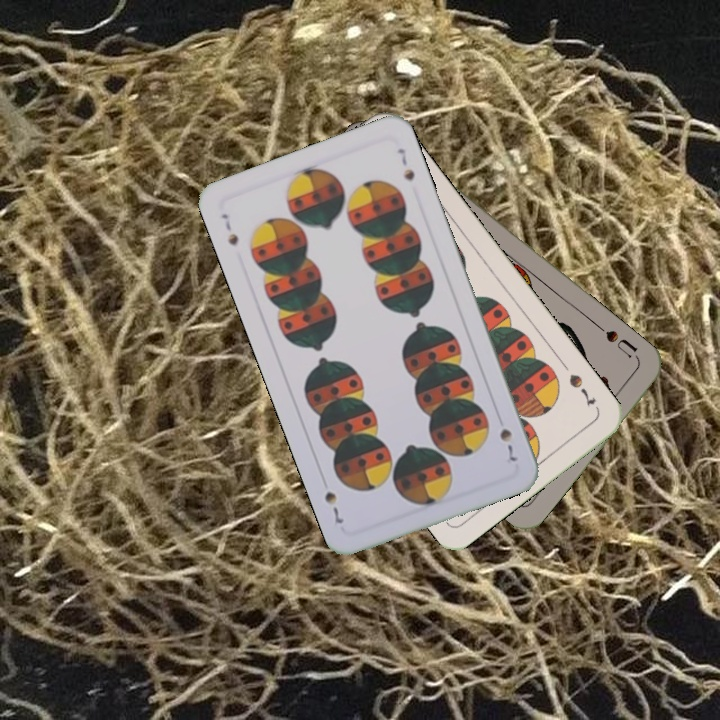S7: (564, 370, 599, 409), (495, 424, 519, 464), (217, 209, 241, 249)
SU: (592, 320, 642, 363)
